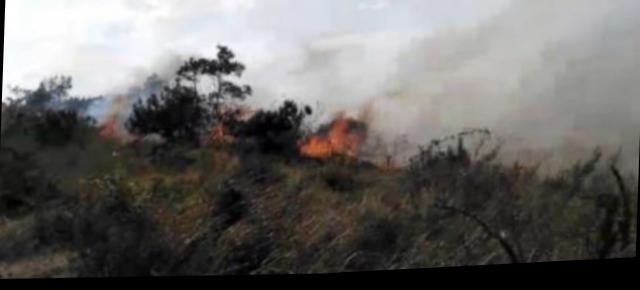fire: (301, 114, 368, 166), (96, 97, 130, 142), (212, 107, 250, 144)
